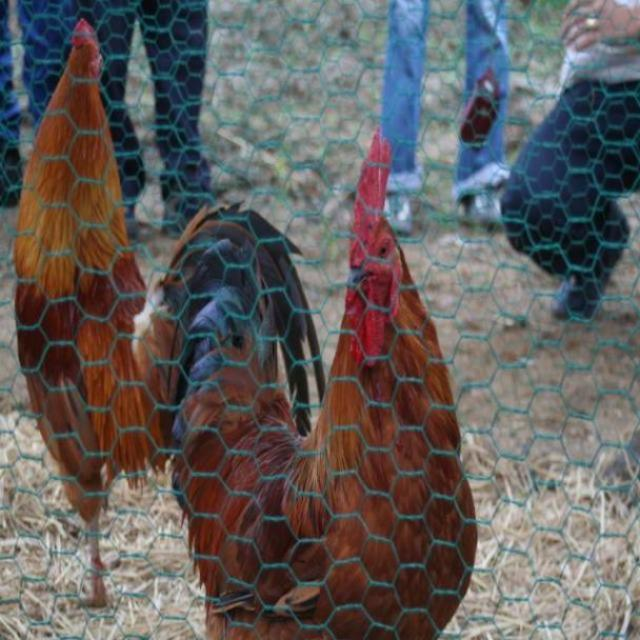Chicken: (14, 19, 328, 610), (176, 168, 464, 640)
